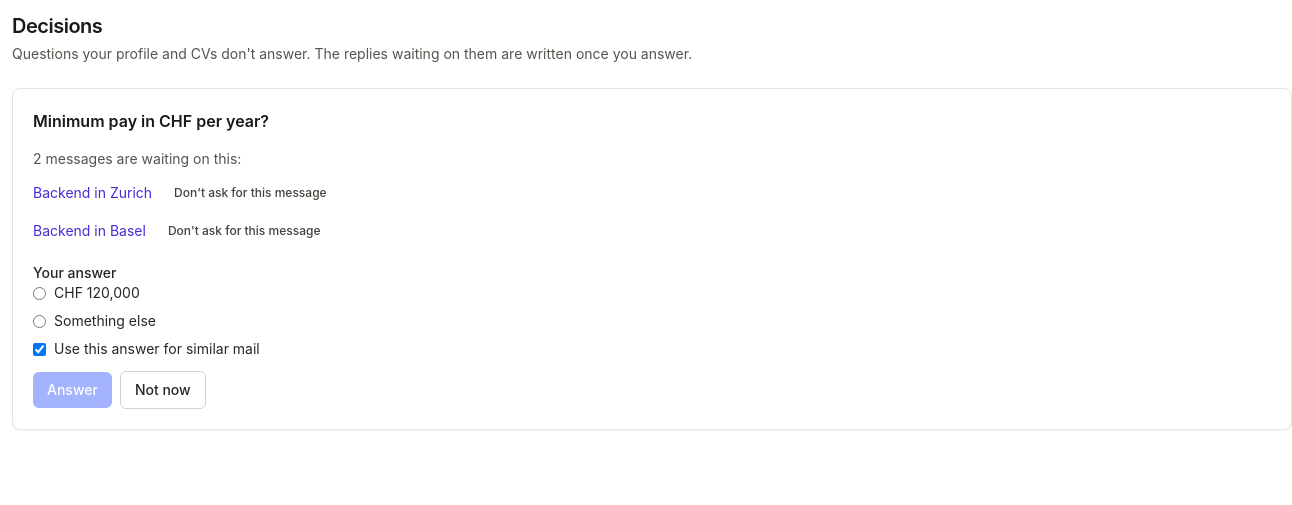
Scenario: the Decisions page (F7.2) › keeps a decision with Not now, and closes it for one message with Don't ask
Expected: the heading "Minimum pay in CHF per year?" is shown, [33,111,269,131]
Click the button "Not now" at (163, 390), box [120,371,206,409]
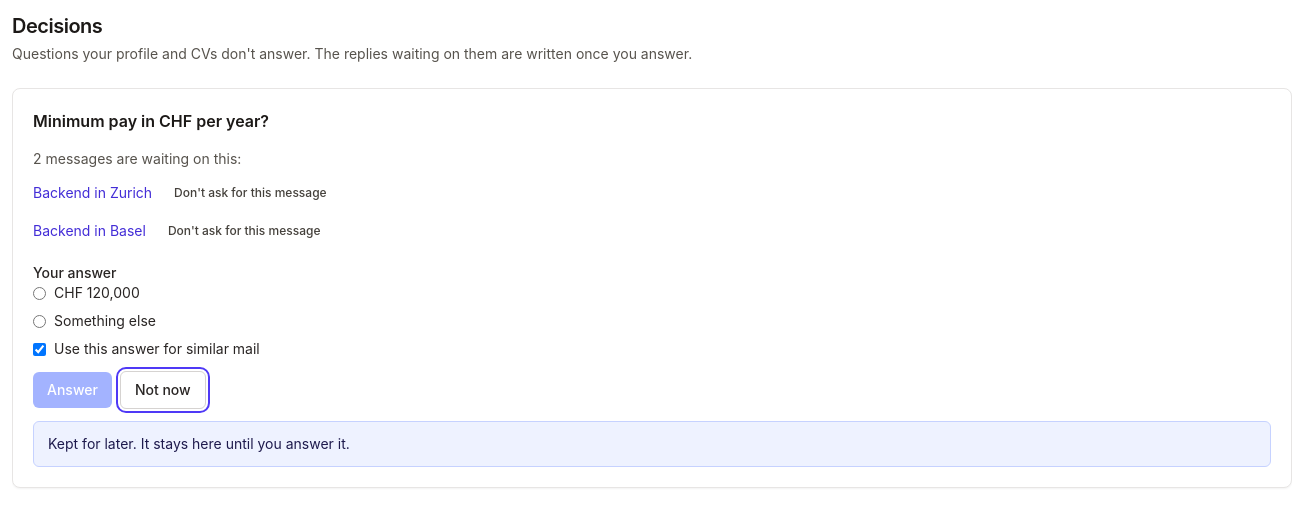
Expected: the heading "Minimum pay in CHF per year?" is shown, [33,111,269,131]
Expected: the text "Kept for later. It stays here until you answer it." is shown, [48,435,350,452]
Click the button with aria-label "Don't ask for this message: Backend in Basel" at (244, 231), box [154,215,334,247]
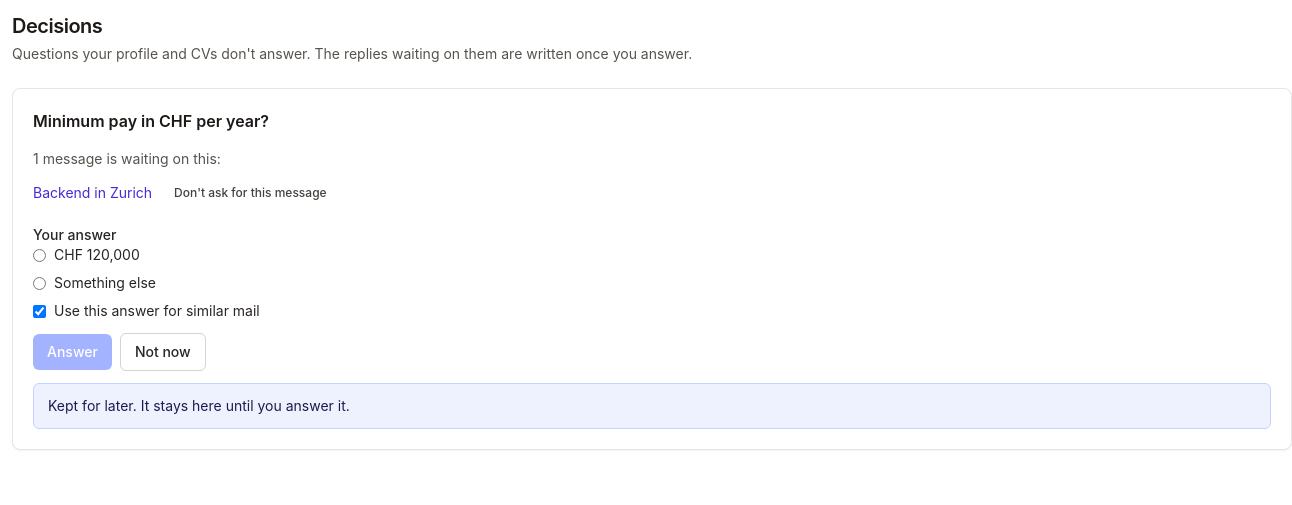
Expected: the text "1 message is waiting on this:" is shown, [33,150,221,167]
Expected: the link "Backend in Basel" is gone
